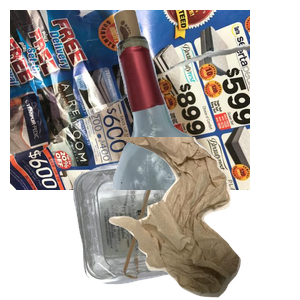glass: (89, 10, 300, 190)
paper: (10, 10, 250, 190)
plastic: (71, 154, 300, 300)
trash: (103, 137, 300, 300)
